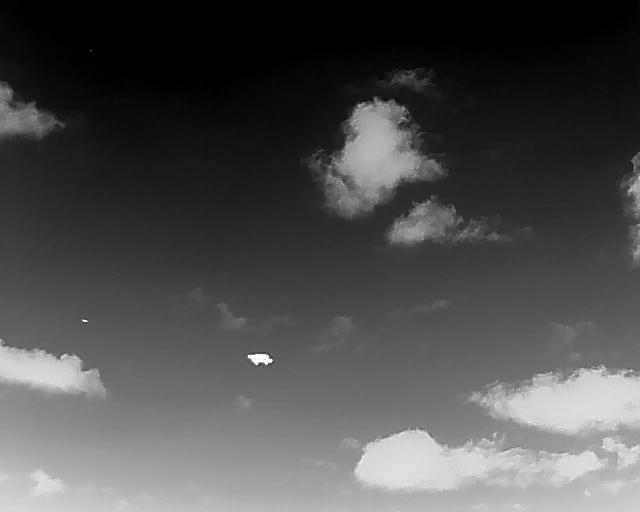fpv-drone: (247, 353, 272, 365)
